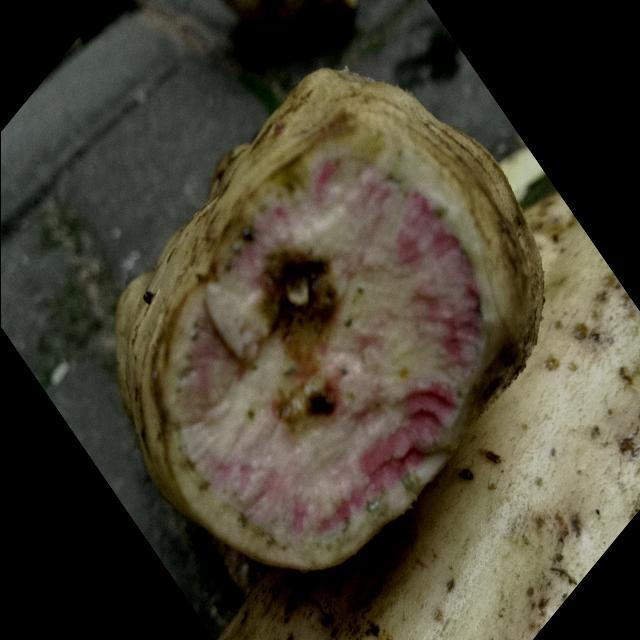Sick Sweet Potato_Tuber Rot: (162, 145, 485, 567)
